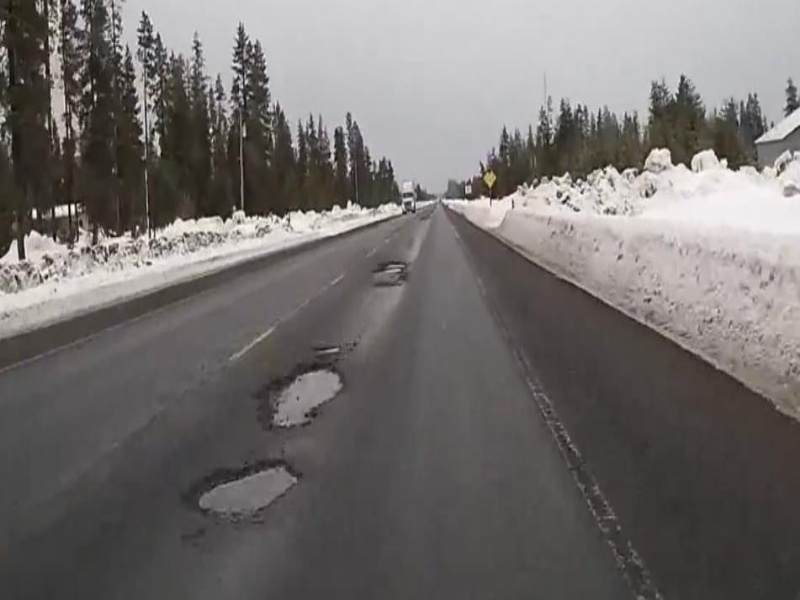pothole: (191, 456, 302, 521), (267, 362, 349, 430)
